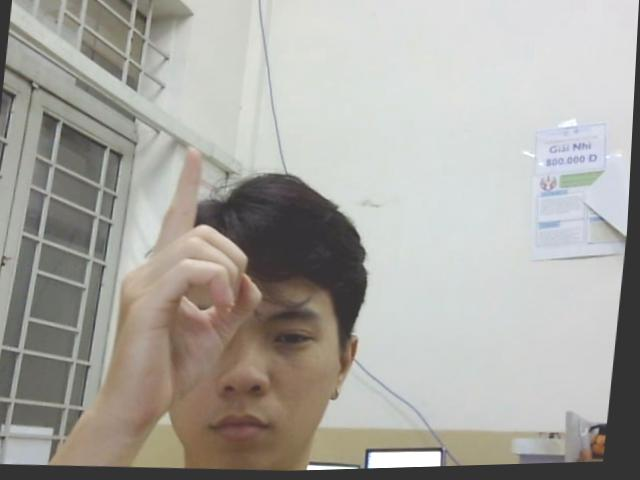D: (110, 140, 278, 424)
